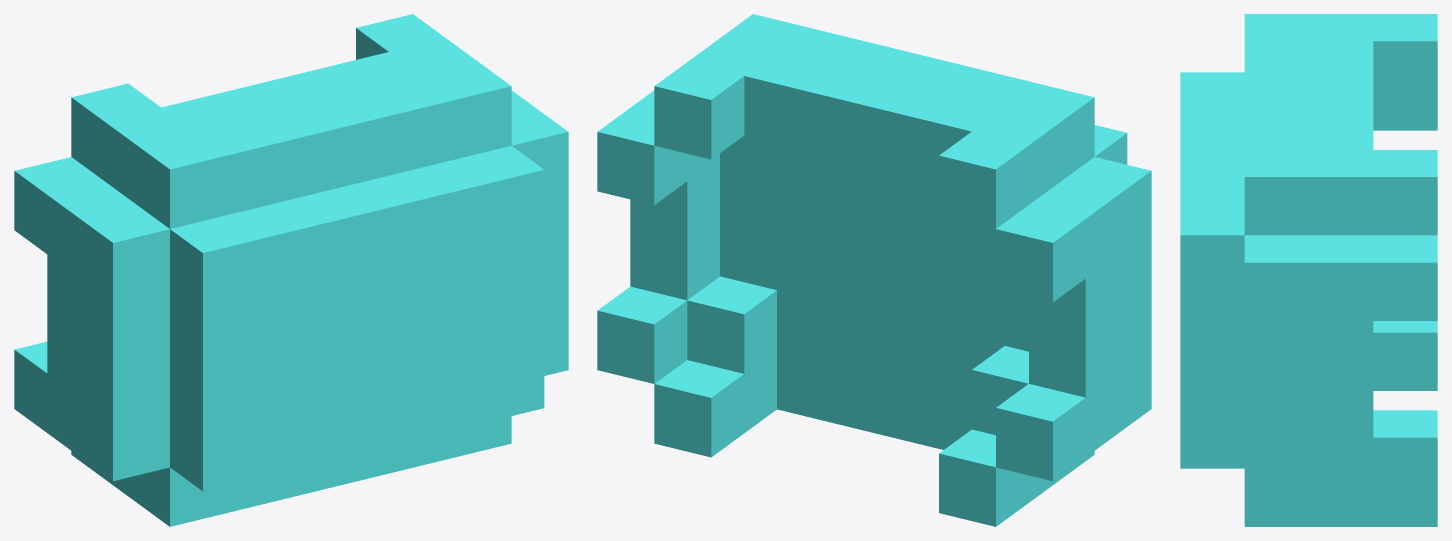
The model's file is socapacete.obj.
The picture shows the model from 3 angles, left to right: view 1: azimuth 30°, elevation 25°; view 2: azimuth 150°, elevation 25°; view 3: azimuth 270°, elevation 25°; orthographic projection. The views are drawn at different scales.
Visible parts, largest first — view 1: ObjObject; view 2: ObjObject; view 3: ObjObject.
Part boxes in pixels (bbox=[...]): ObjObject: bbox=[14, 14, 568, 526]; ObjObject: bbox=[597, 14, 1151, 526]; ObjObject: bbox=[1180, 14, 1437, 526].
Bounding box in the file's own units: 0.8 × 0.6 × 0.4.
